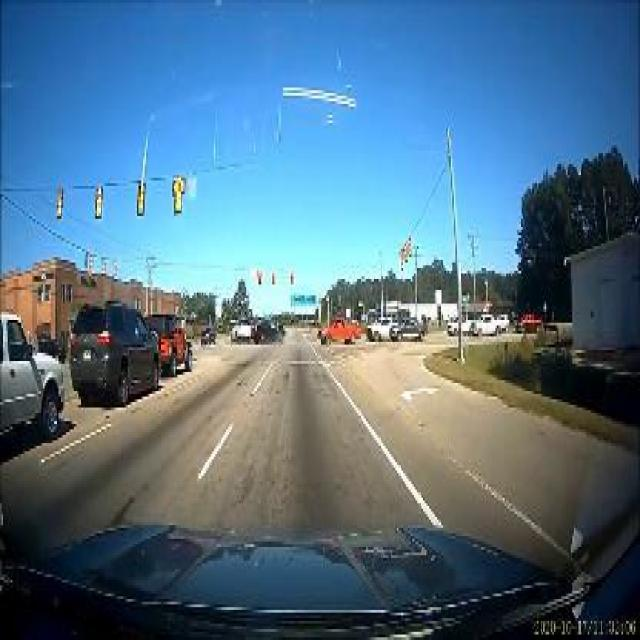accident: (229, 314, 286, 344)
